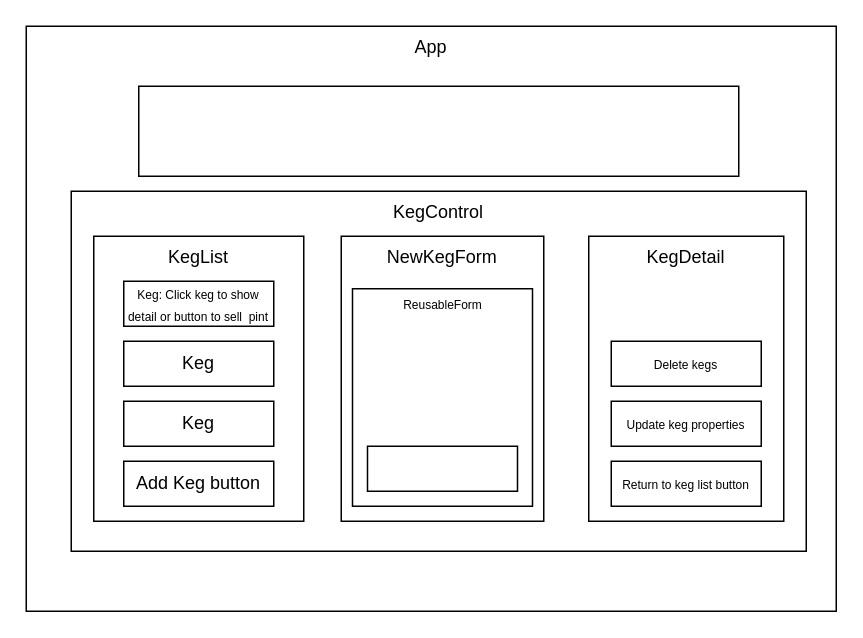
This 863x638 diagram has some shape labels left out. Here are the shapes that lost their labels. From the top down, the centre of each, then its label:
(438,130): Header
(442,468): Submit will create a keg and show list of kegs
